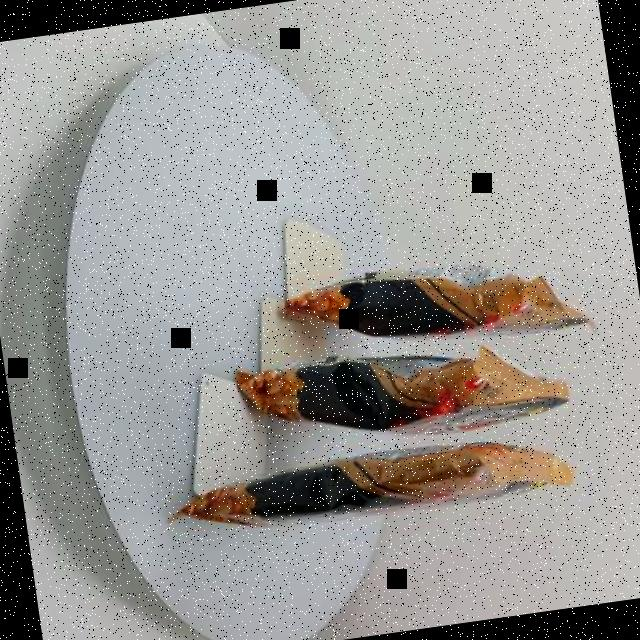snack_bag: (130, 230, 630, 565)
